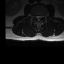CCS_normal: (37, 13, 39, 23)
LFS_normal: (41, 13, 43, 19)
LLS_normal: (39, 13, 41, 20)
RFS_stenosis: (33, 13, 35, 19)
RLS_normal: (35, 14, 37, 20)
